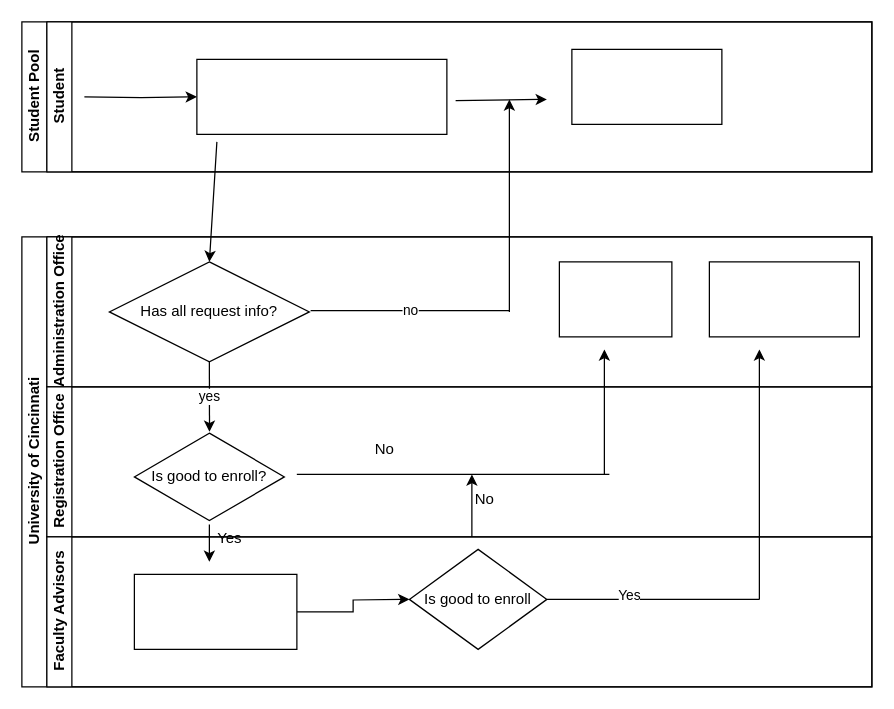
This 894x709 diagram has some shape labels left out. Here are the shapes that lost their labels. From the top down, the centre of each, then its label:
the point at 321,96: Submit Registration Form
the point at 646,86: Submit More Info
the point at 615,299: Send rejection notification
the point at 783,299: Send welcome letter
the point at 215,611: Review the application
